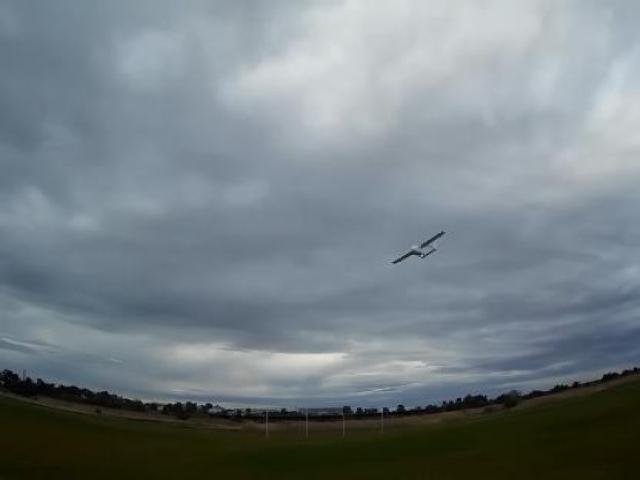uav: (390, 228, 445, 268)
